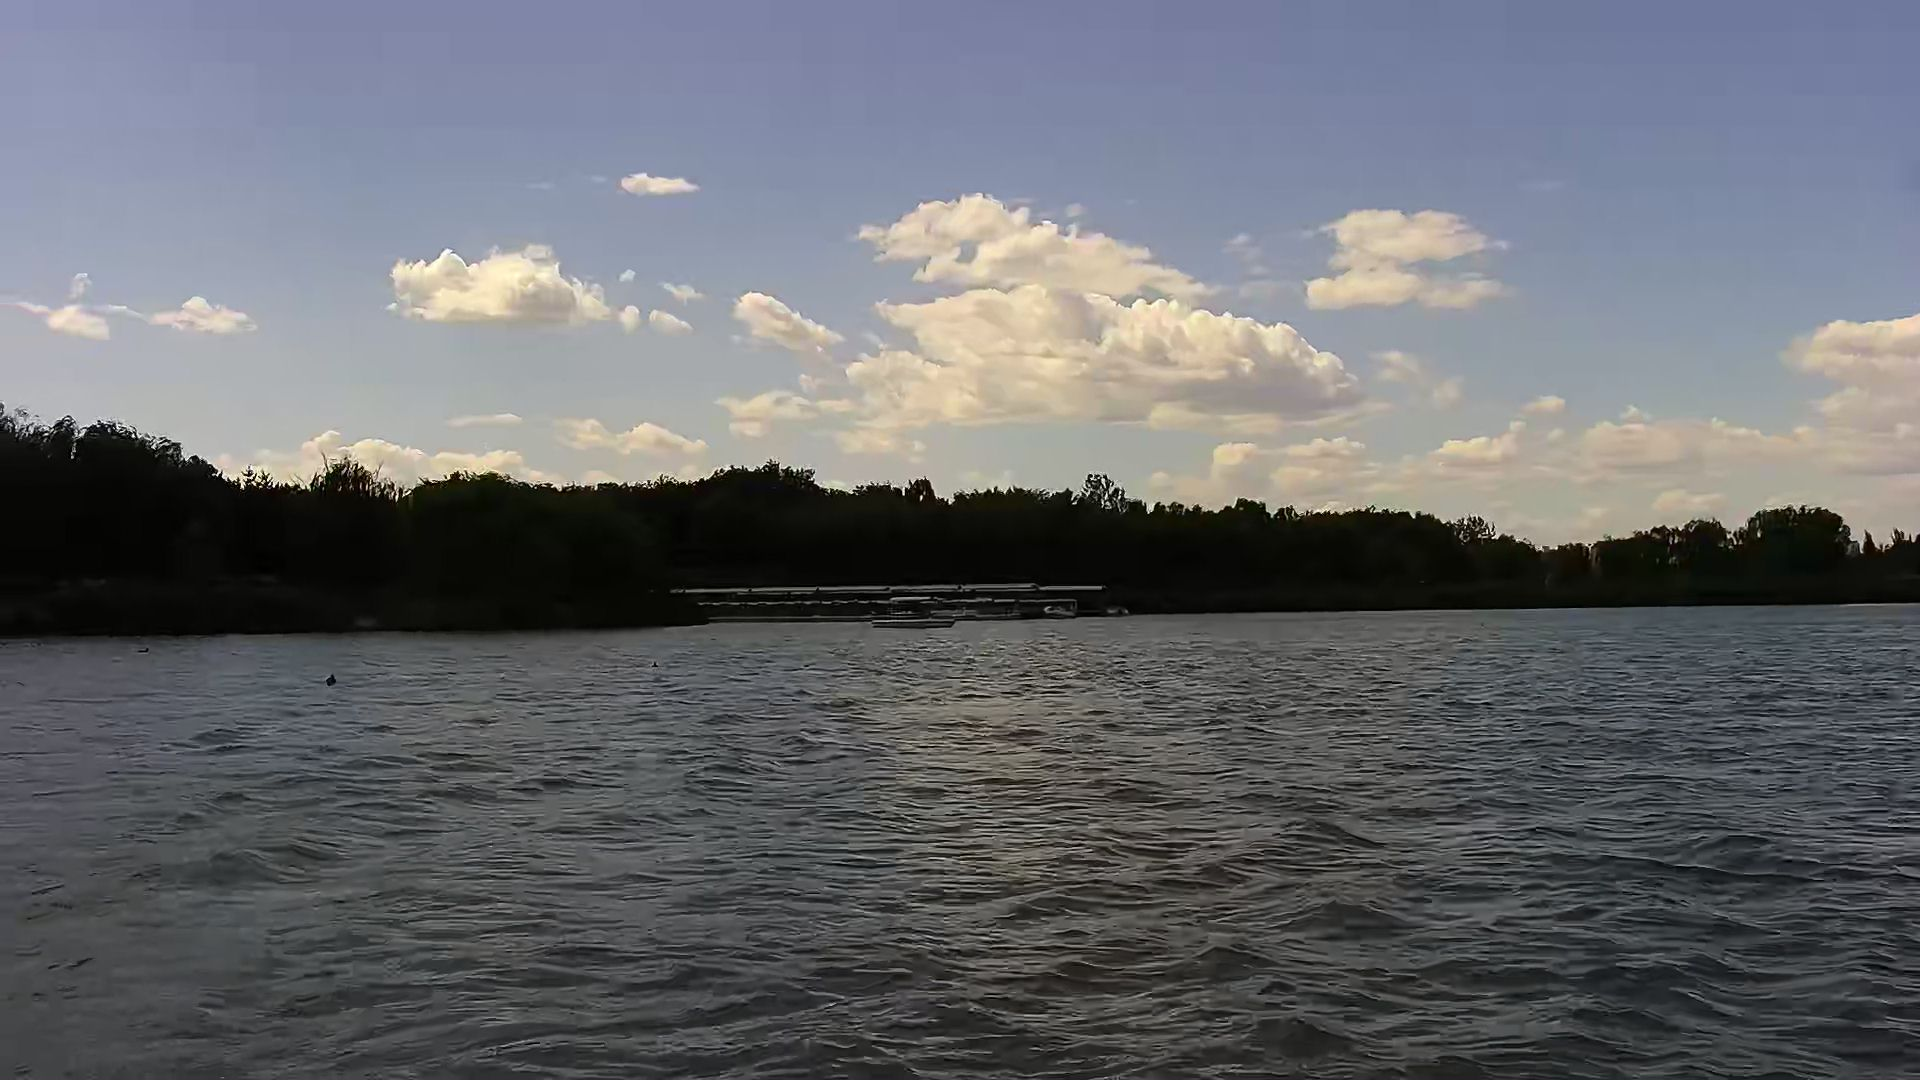harbor: (676, 572, 1118, 624)
